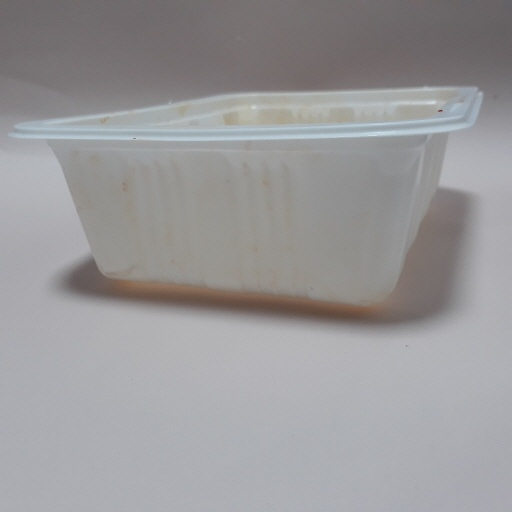Plastic_4: (11, 84, 483, 310)
